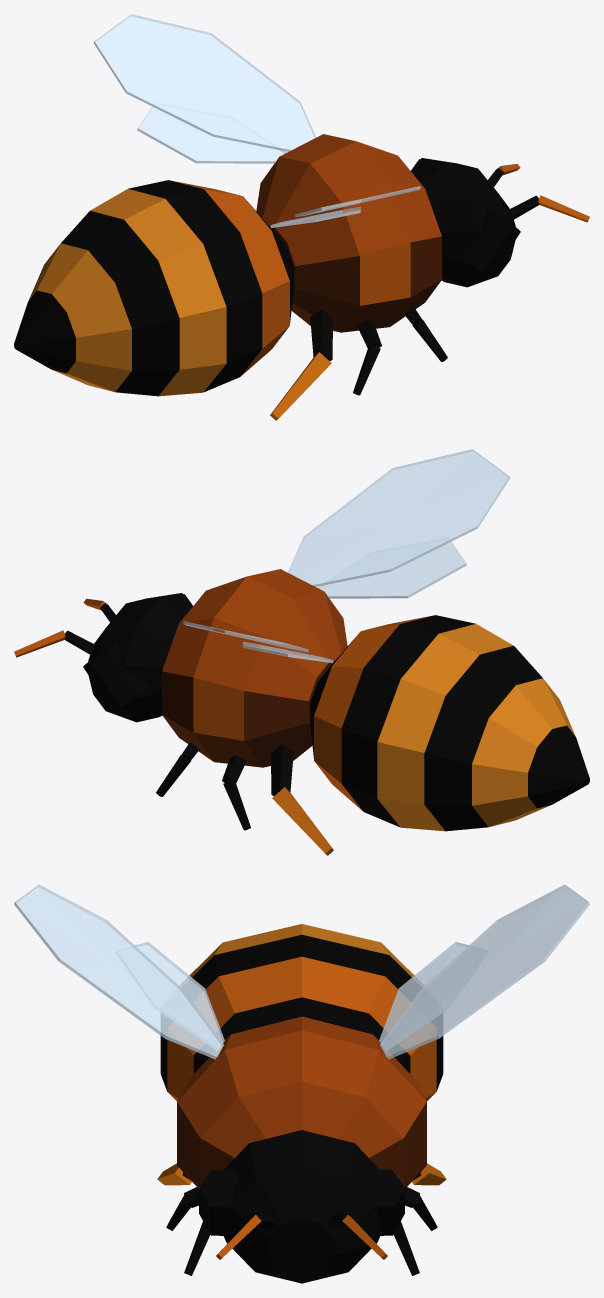
File: bee.glb
3 views of the same model, one above another, from view 1: azimuth 30°, elevation 25°; view 2: azimuth 150°, elevation 25°; view 3: azimuth 270°, elevation 25° (orthographic). The views are drawn at different scales.
Parts seen in each view (by area): view 1: BeeBody, BeeWingLeft, BeeWingRight; view 2: BeeBody, BeeWingRight, BeeWingLeft; view 3: BeeBody, BeeWingRight, BeeWingLeft.
Part boxes in pixels (bbox=[...]): BeeBody: bbox=[14, 134, 589, 420]; BeeWingLeft: bbox=[94, 14, 316, 163]; BeeWingRight: bbox=[270, 186, 420, 227]; BeeBody: bbox=[14, 569, 589, 855]; BeeWingRight: bbox=[287, 449, 509, 598]; BeeWingLeft: bbox=[183, 621, 333, 662]; BeeBody: bbox=[157, 924, 446, 1283]; BeeWingRight: bbox=[14, 884, 224, 1059]; BeeWingLeft: bbox=[379, 884, 589, 1059].
Bounding box in the file's own units: 2.09 × 0.9747 × 1.67.
